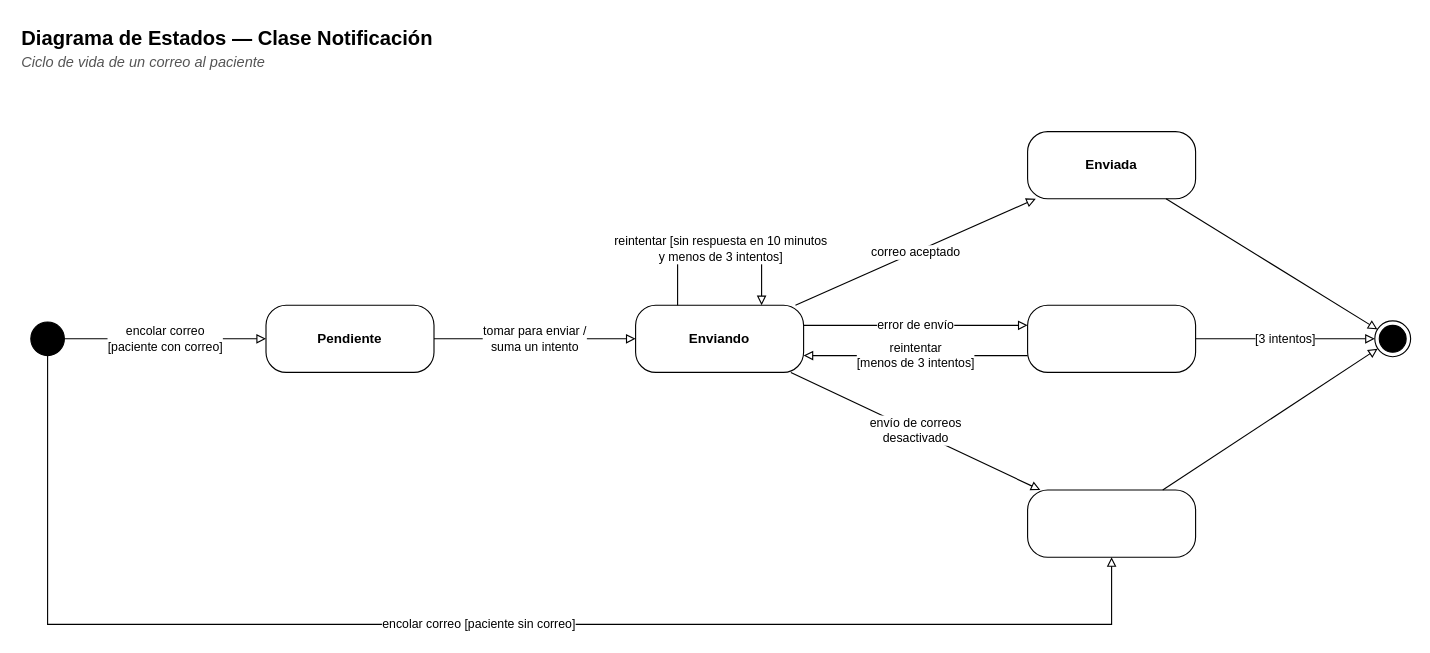
This 1430x653 diagram has some shape labels left out. The shapes that lost their labels are listed below. From the top down, each one's centre as x and y in pixels, then its label:
the point at 1111,338: Fallida
the point at 1111,523: Omitida
